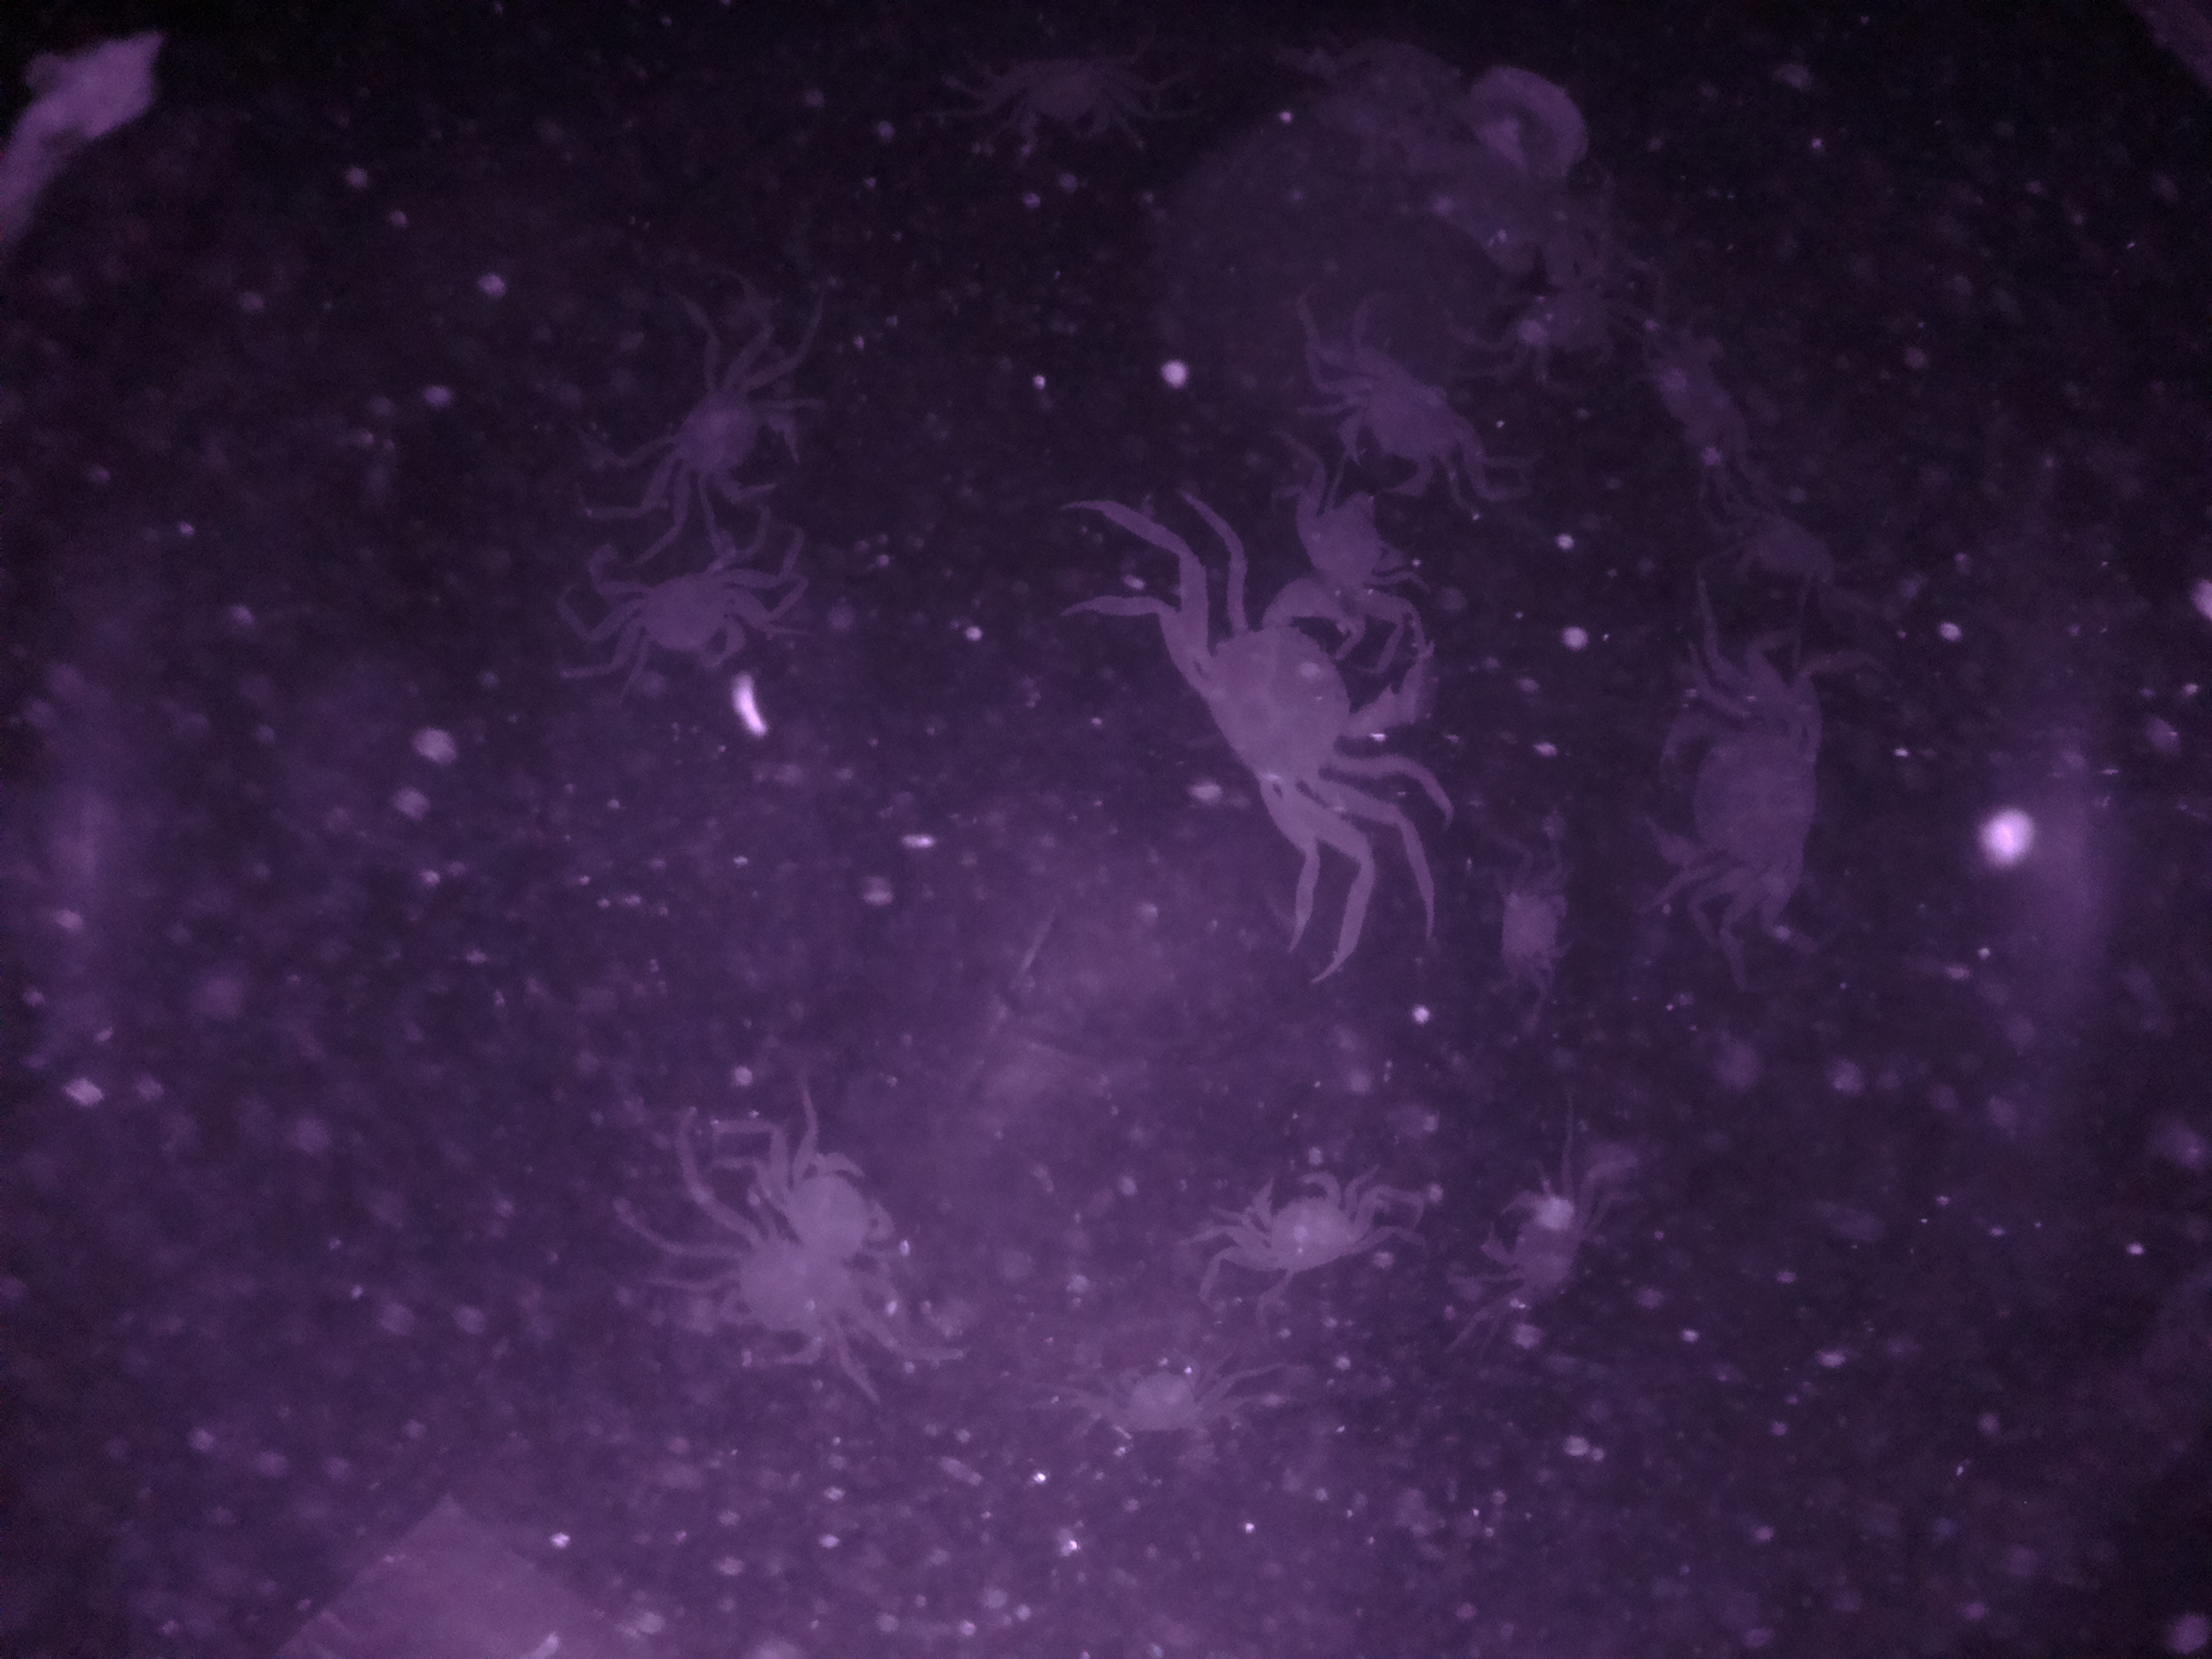Crab: (1153, 566, 1437, 850), (1625, 685, 1846, 925), (1320, 342, 1498, 519), (643, 354, 820, 528), (1460, 1164, 1620, 1326), (603, 558, 782, 699), (1216, 1143, 1379, 1293), (989, 40, 1155, 162)
